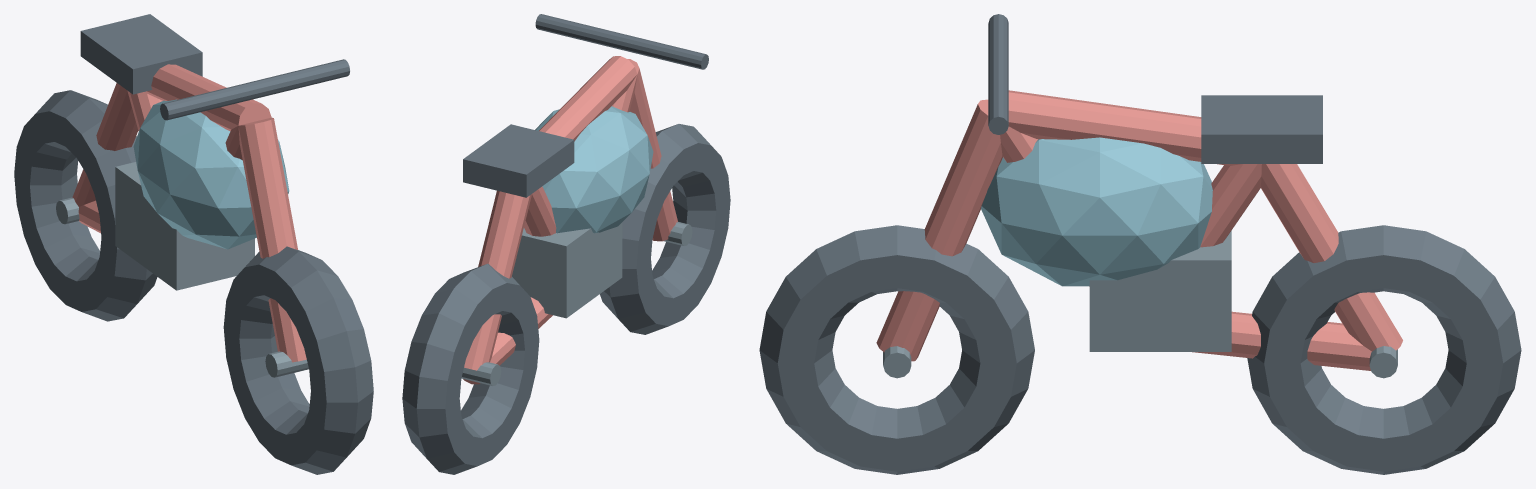
The model's file is motorcycle.glb.
3 views of the same model, side by side, from view 1: azimuth 30°, elevation 25°; view 2: azimuth 150°, elevation 25°; view 3: azimuth 270°, elevation 25° (orthographic). The views are drawn at different scales.
Parts seen in each view (by area): view 1: motorcycle_000, motorcycle_002, motorcycle_012, motorcycle_013, motorcycle_004, motorcycle_010, motorcycle_011, motorcycle_005, motorcycle_006, motorcycle_001, motorcycle_009, motorcycle_003 (+1 smaller); view 2: motorcycle_002, motorcycle_000, motorcycle_012, motorcycle_013, motorcycle_010, motorcycle_006, motorcycle_005, motorcycle_011, motorcycle_004, motorcycle_009, motorcycle_007, motorcycle_003 (+2 smaller); view 3: motorcycle_000, motorcycle_002, motorcycle_012, motorcycle_013, motorcycle_004, motorcycle_010, motorcycle_005, motorcycle_006, motorcycle_007, motorcycle_009, motorcycle_011, motorcycle_008 (+2 smaller).
Part boxes in pixels (<box>): motorcycle_000: <box>223,246,373,474</box>; motorcycle_002: <box>14,90,157,321</box>; motorcycle_012: <box>133,99,289,249</box>; motorcycle_013: <box>115,162,254,290</box>; motorcycle_004: <box>238,117,306,362</box>; motorcycle_010: <box>80,14,202,94</box>; motorcycle_011: <box>160,59,349,120</box>; motorcycle_005: <box>145,64,271,131</box>; motorcycle_006: <box>72,83,138,206</box>; motorcycle_001: <box>265,351,308,377</box>; motorcycle_009: <box>127,90,162,131</box>; motorcycle_003: <box>56,197,79,224</box>; motorcycle_002: <box>402,263,539,474</box>; motorcycle_000: <box>600,124,730,334</box>; motorcycle_012: <box>535,106,653,233</box>; motorcycle_013: <box>512,222,622,318</box>; motorcycle_010: <box>463,124,574,197</box>; motorcycle_006: <box>464,190,531,370</box>; motorcycle_005: <box>539,56,637,141</box>; motorcycle_011: <box>535,14,708,69</box>; motorcycle_004: <box>627,59,677,241</box>; motorcycle_009: <box>524,186,556,236</box>; motorcycle_007: <box>463,297,552,384</box>; motorcycle_003: <box>461,362,501,385</box>; motorcycle_000: <box>759,225,1034,474</box>; motorcycle_002: <box>1247,225,1521,474</box>; motorcycle_012: <box>981,137,1212,286</box>; motorcycle_013: <box>1089,231,1231,351</box>; motorcycle_004: <box>876,99,1002,361</box>; motorcycle_010: <box>1201,95,1322,163</box>; motorcycle_005: <box>1008,90,1241,165</box>; motorcycle_006: <box>1261,164,1402,351</box>; motorcycle_007: <box>1192,311,1371,370</box>; motorcycle_009: <box>1200,164,1261,247</box>; motorcycle_011: <box>988,14,1008,134</box>; motorcycle_008: <box>1000,126,1089,286</box>.
Size of the model in its own units: 0.6 by 1.12 by 1.88.
